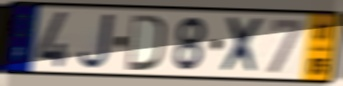4: (35, 9, 72, 71)
7: (269, 16, 306, 77)
8: (173, 15, 206, 73)
D: (126, 12, 166, 73)
J: (76, 11, 117, 72)
X: (219, 15, 266, 77)
